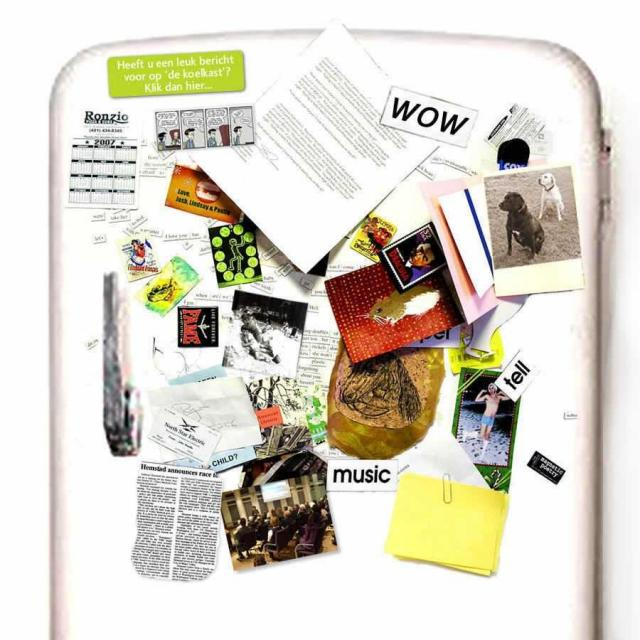refrigerator: (48, 27, 601, 640)
